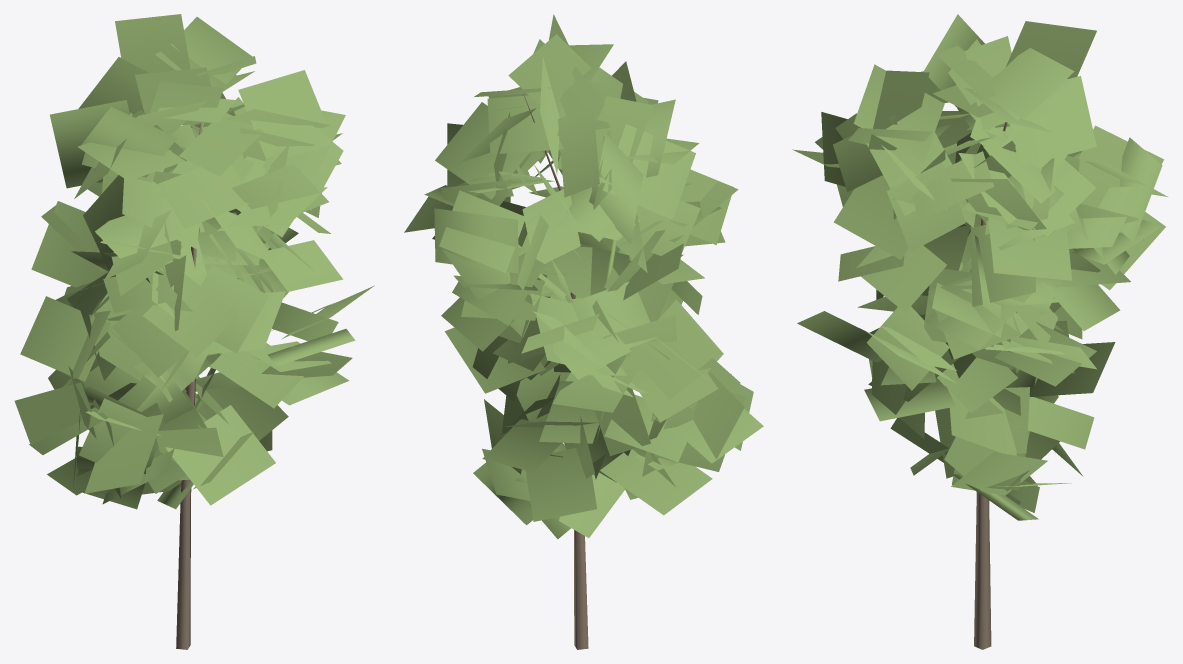
File: Pine_12_young_lod2.glb
3 renders of one model, left to right at view 1: azimuth 30°, elevation 25°; view 2: azimuth 150°, elevation 25°; view 3: azimuth 270°, elevation 25°, orthographic. The views are drawn at different scales.
Parts seen in each view (by area): view 1: Pine_12_young_lod2; view 2: Pine_12_young_lod2; view 3: Pine_12_young_lod2.
Boxes of the visible parts, left/top/right/bottom form: Pine_12_young_lod2: left=14, top=14, right=374, bottom=649; Pine_12_young_lod2: left=404, top=14, right=763, bottom=649; Pine_12_young_lod2: left=792, top=14, right=1167, bottom=649.
Size of the model in its own units: 5.59 by 10.26 by 5.52.
